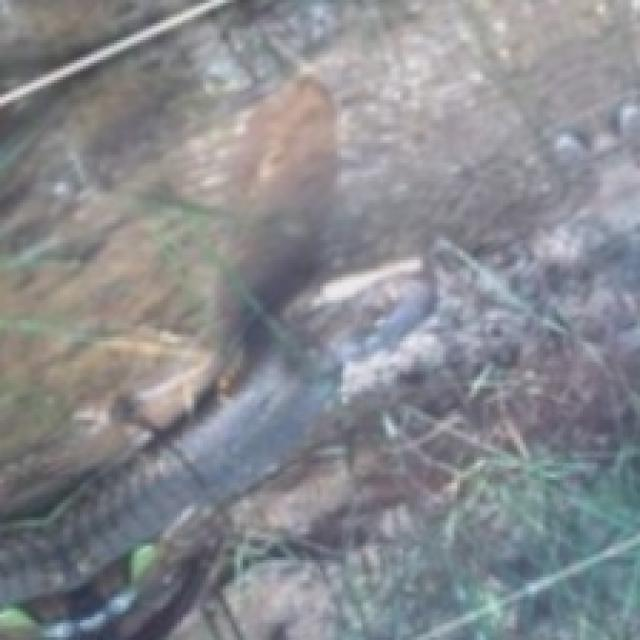king cobra: (0, 0, 637, 637), (0, 0, 194, 89)
